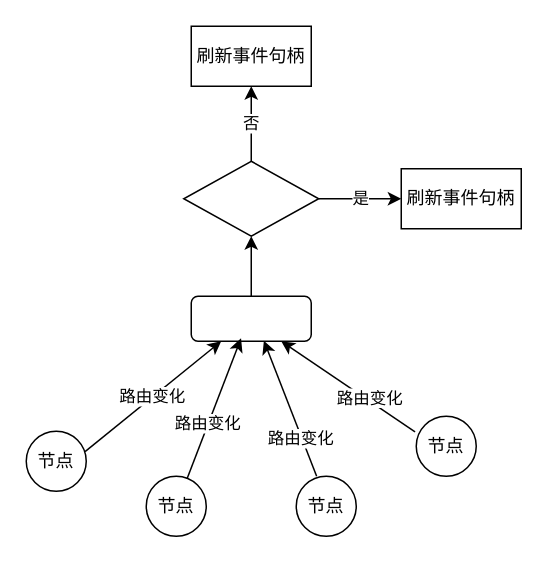
The diagram is 548 pixels wide and 563 high, and some of its shapes have lost their labels. Each missing label, with the centre of its shape:
"单例模式" belongs at point 250,318.
"是否超时？" belongs at point 250,198.
